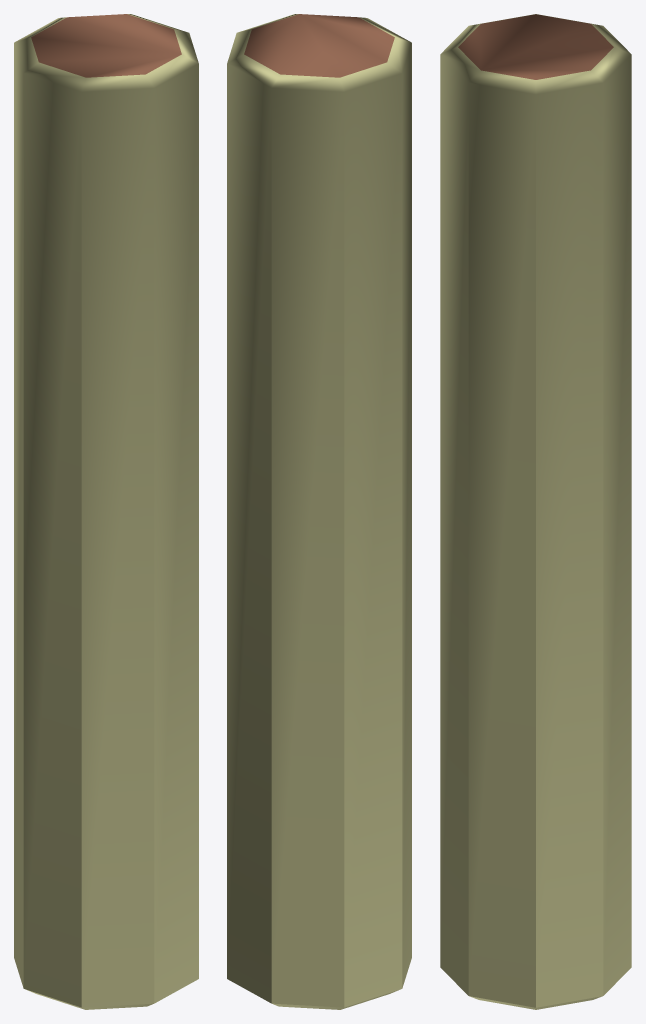
Rendered from LogHalfCayGoi.fbx.
3 views of the same model, side by side, from view 1: azimuth 30°, elevation 25°; view 2: azimuth 150°, elevation 25°; view 3: azimuth 270°, elevation 25° (orthographic).
Parts seen in each view (by area): view 1: Cube; view 2: Cube; view 3: Cube.
Part boxes in pixels (<box>): Cube: <box>14,14,198,1009</box>; Cube: <box>227,14,411,1009</box>; Cube: <box>440,14,631,1009</box>.
Bounding box in the file's own units: 216 × 1162 × 217.
